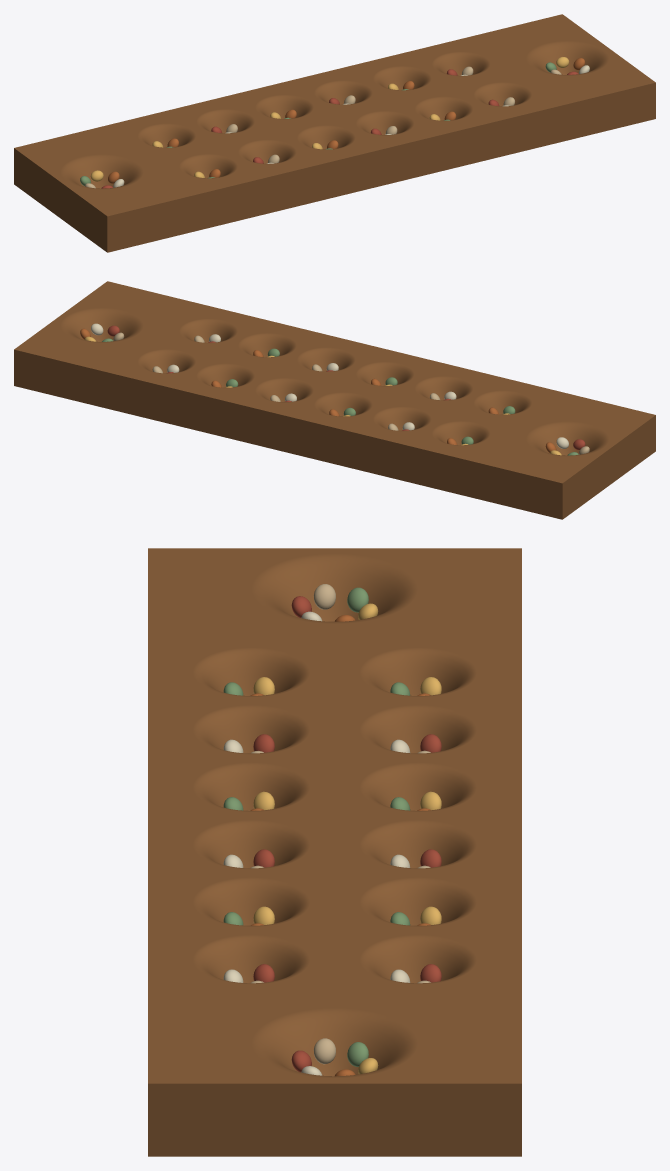
3 views of the same model, one above another, from view 1: azimuth 30°, elevation 25°; view 2: azimuth 150°, elevation 25°; view 3: azimuth 270°, elevation 25° (orthographic). The views are drawn at different scales.
Parts seen in each view (by area): view 1: Whole solid mancala board; view 2: Whole solid mancala board; view 3: Whole solid mancala board.
Part boxes in pixels (left/top/right/bottom): Whole solid mancala board: left=14, top=14, right=655, bottom=252; Whole solid mancala board: left=14, top=281, right=655, bottom=519; Whole solid mancala board: left=148, top=548, right=521, bottom=1156.
Bounding box in the file's own units: 0.41 × 0.026 × 0.121.
